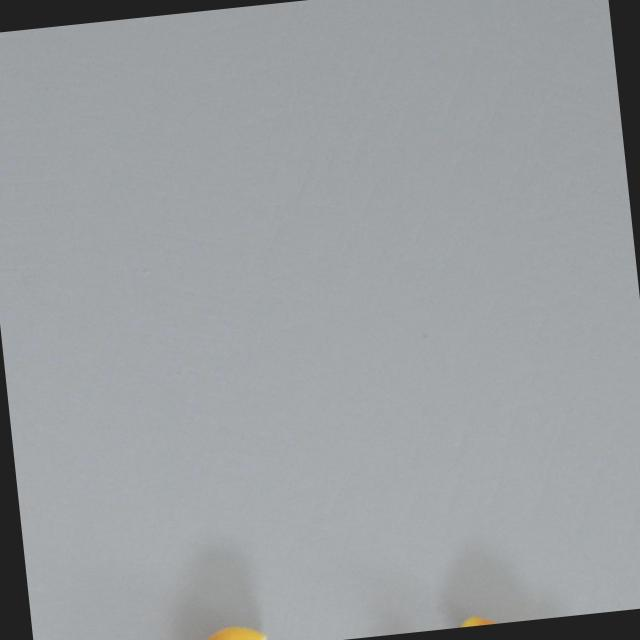pelicula: (446, 605, 537, 628), (168, 620, 267, 640)
